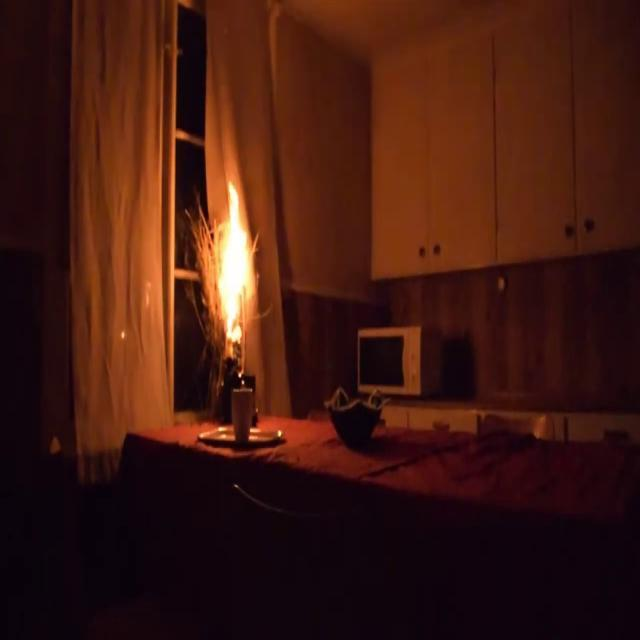Fire: (210, 174, 264, 355)
